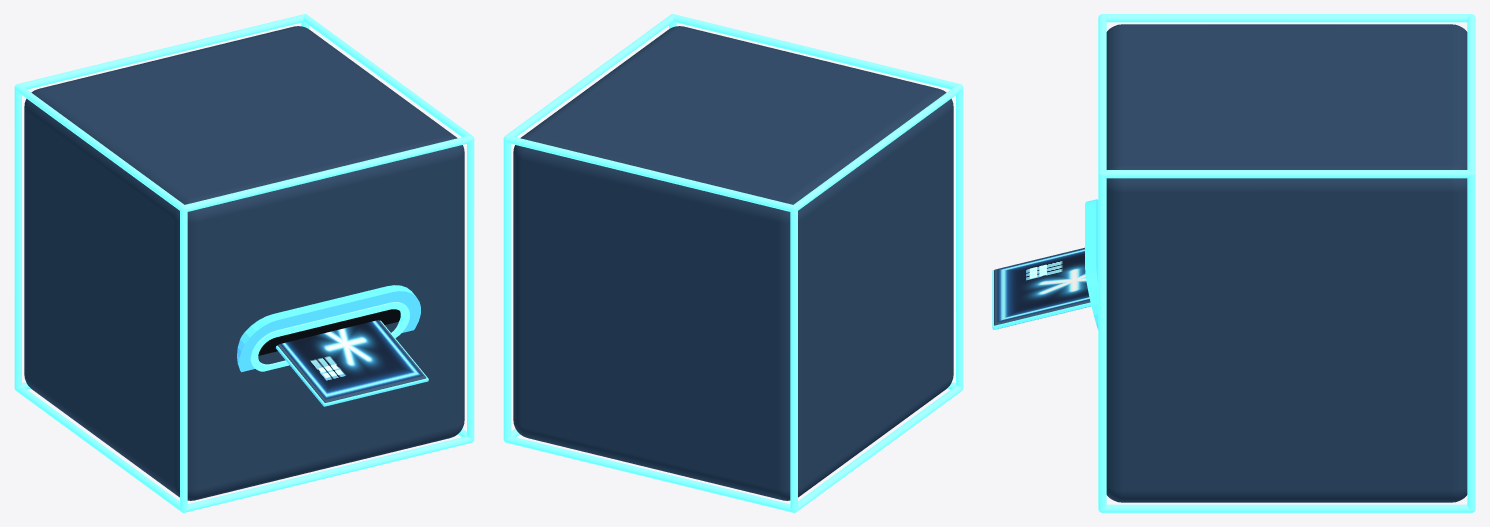
File: payments.glb
3 renders of one model, left to right at view 1: azimuth 30°, elevation 25°; view 2: azimuth 150°, elevation 25°; view 3: azimuth 270°, elevation 25°, orthographic. The views are drawn at different scales.
Visible parts, largest first — view 1: reader_body, slot_glow, card_assembly; view 2: reader_body, slot_glow; view 3: reader_body, slot_glow, card_assembly.
Boxes of the visible parts, x1,y1,x2,y2 form: reader_body: (24,26,464,500); slot_glow: (14,14,474,512); card_assembly: (276,320,428,406); reader_body: (513,26,953,500); slot_glow: (503,14,963,512); reader_body: (1085,24,1467,502); slot_glow: (1098,14,1475,512); card_assembly: (992,247,1091,329).
Bounding box in the file's own units: 1.96 × 1.96 × 2.5.
Materials: 8 (1 with a texture image).
